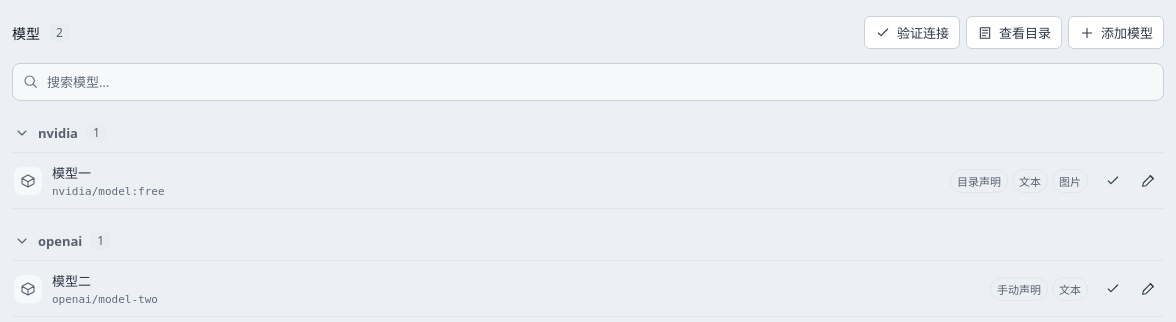
it: 紧凑模型管理 › 进入仅读元数据，按真实ID前缀分组及声明输入显示，不声称在线或已验证
expect the text "模型一" is shown: met, box x1=52 y1=164 x2=91 y2=182
expect the text "nvidia" is shown: met, box x1=38 y1=124 x2=78 y2=142
Step 1. Type "model-two" into the search field labelled "搜索模型" → (600, 82), box x1=47 y1=64 x2=1153 y2=100
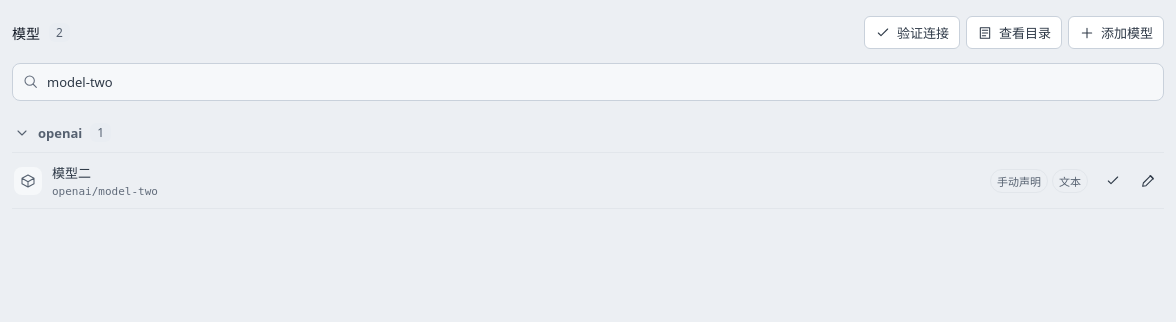
expect the text "模型二" is shown: met, box x1=52 y1=164 x2=91 y2=182
expect the text "模型一" is gone: met
